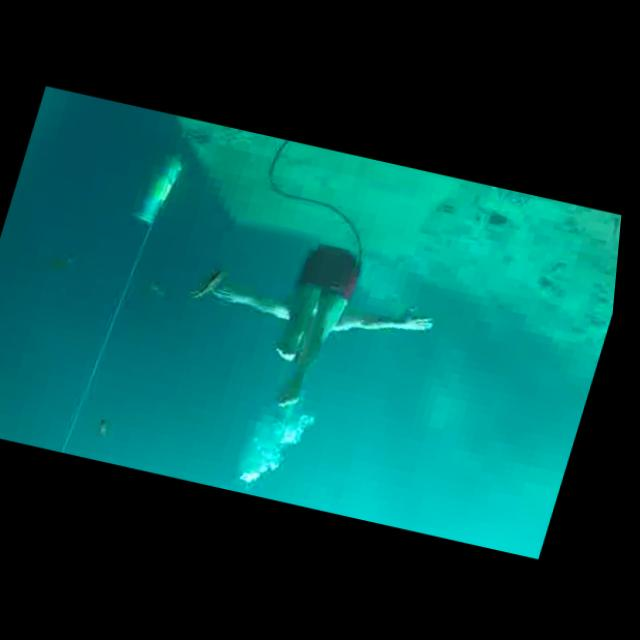human: (184, 219, 468, 431)
